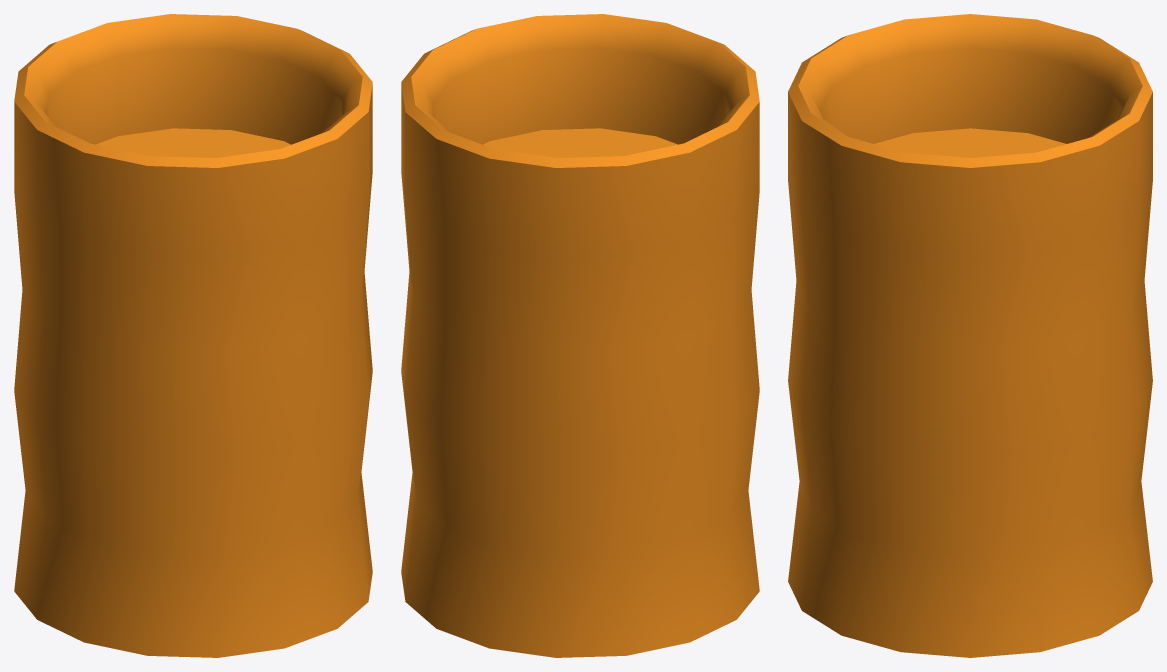
File: CoralCupD.FBX
The picture shows the model from 3 angles, left to right: view 1: azimuth 30°, elevation 25°; view 2: azimuth 150°, elevation 25°; view 3: azimuth 270°, elevation 25°; orthographic projection.
Parts seen in each view (by area): view 1: CoralD; view 2: CoralD; view 3: CoralD.
Part boxes in pixels (x1,y1,x2,y2): CoralD: (14, 14, 372, 657); CoralD: (401, 14, 759, 657); CoralD: (788, 14, 1152, 657).
Size of the model in its own units: 50.14 by 75.96 by 50.68.
Materials: 1 (1 with a texture image).
